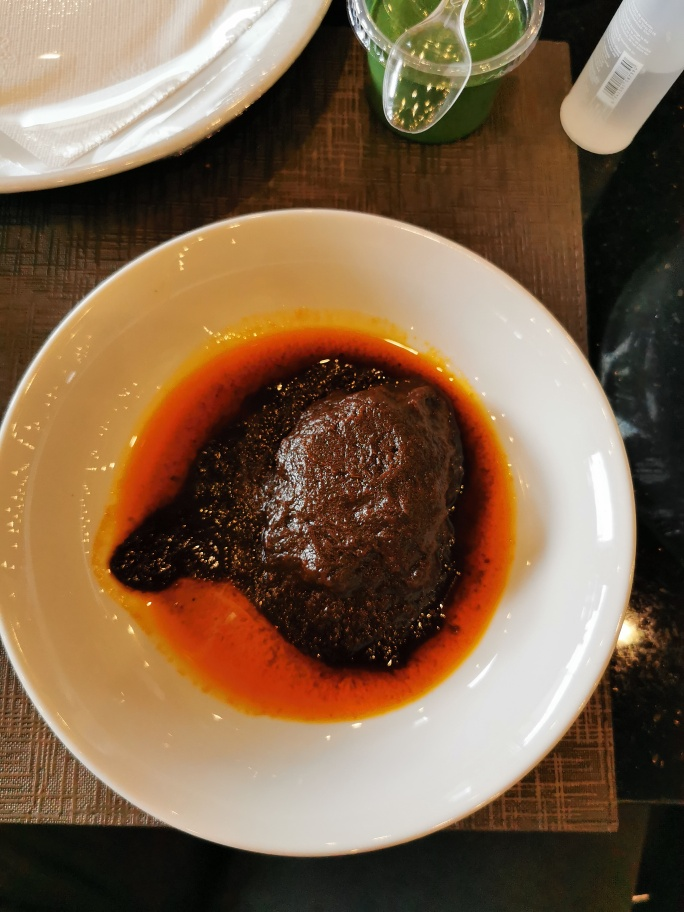rendang: (176, 348, 483, 706)
